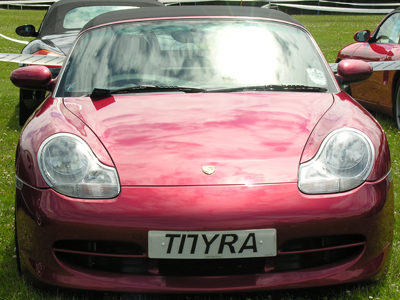licencePlate: (148, 228, 277, 258)
